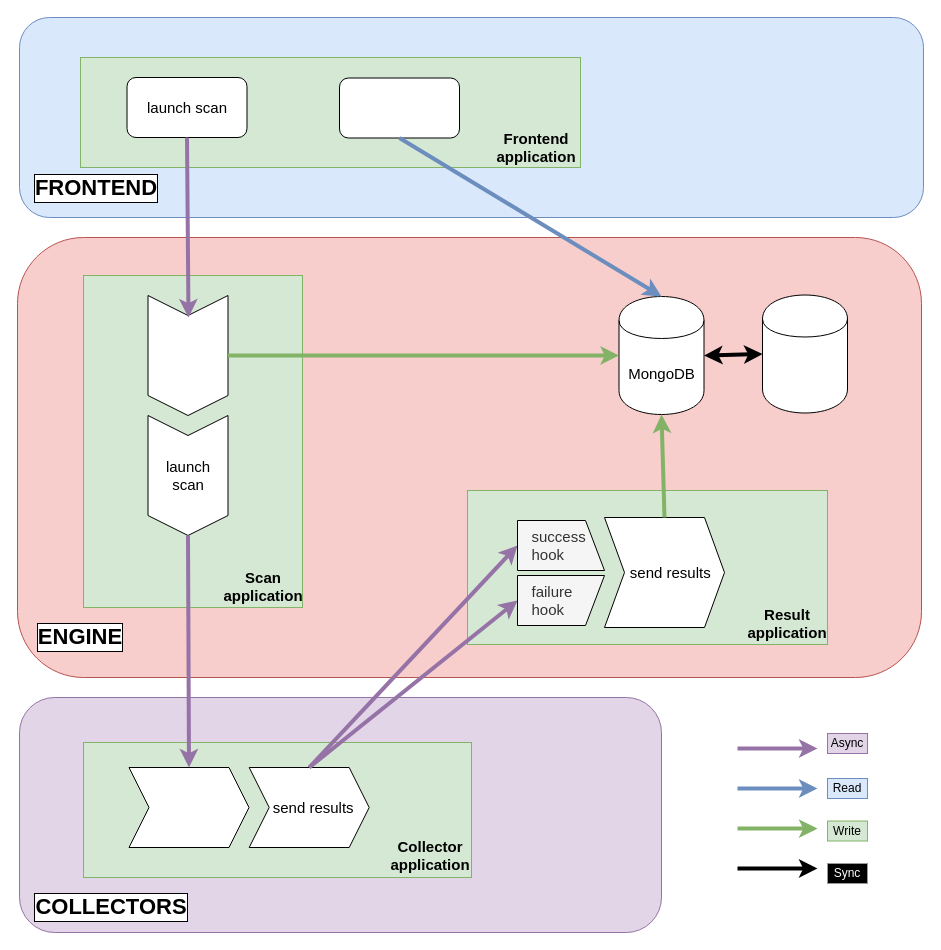
Image size: 941x950. Some labels were removed from this diagram. The centre of each missing label's shape, as x and y in pixels:
collect intelligence: point (188, 807)
create scan: point (187, 355)
get scan: point (399, 107)
Neo4j: point (805, 353)
